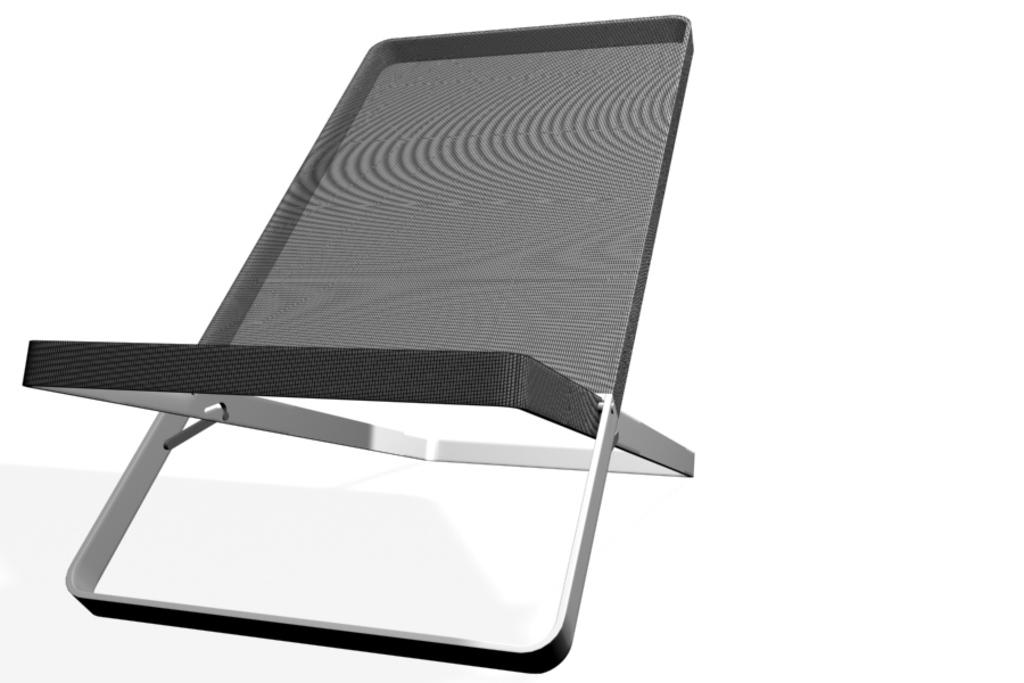Chair: (17, 0, 733, 681)
